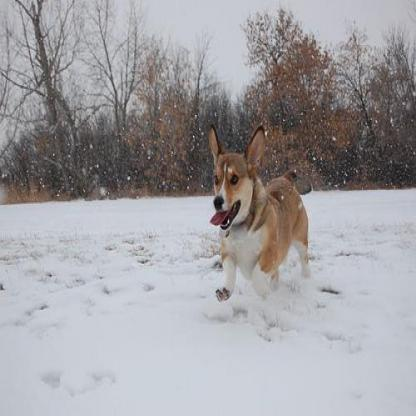Cardigan: (206, 125, 310, 305)
